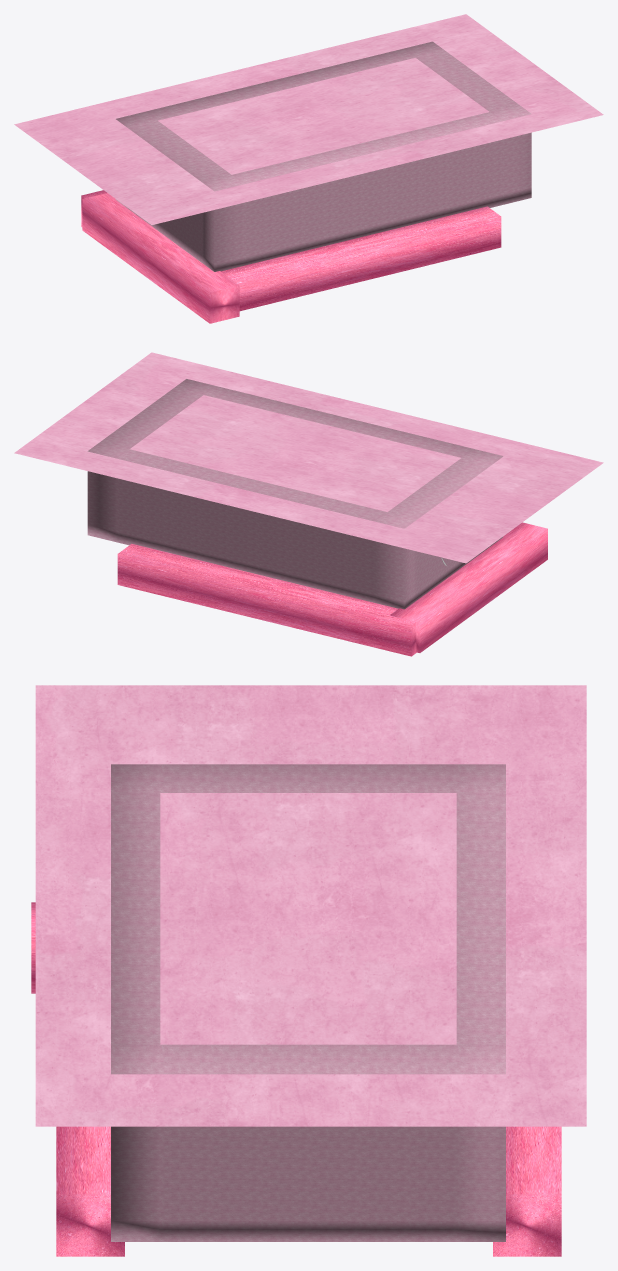
The model's file is temp_krik2.glb.
3 views of the same model, one above another, from view 1: azimuth 30°, elevation 25°; view 2: azimuth 150°, elevation 25°; view 3: azimuth 270°, elevation 25° (orthographic). The views are drawn at different scales.
Parts seen in each view (by area): view 1: roof, room, Cube.004, Cube.002; view 2: roof, room, Cube.006, Cube.002; view 3: roof, room, Cube.006, Cube.004.
Part boxes in pixels (bbox=[...]): roof: bbox=[14, 14, 603, 224]; room: bbox=[115, 41, 531, 271]; Cube.004: bbox=[221, 206, 501, 311]; Cube.002: bbox=[82, 193, 239, 323]; roof: bbox=[14, 352, 603, 563]; room: bbox=[87, 379, 503, 609]; Cube.006: bbox=[117, 543, 416, 656]; Cube.002: bbox=[390, 522, 547, 652]; roof: bbox=[35, 685, 586, 1126]; room: bbox=[111, 764, 505, 1241]; Cube.006: bbox=[493, 1126, 561, 1256]; Cube.004: bbox=[56, 1126, 124, 1256].
Bounding box in the file's own units: 30.39 × 7.25 × 16.15.
Materials: 27 (10 with a texture image).
